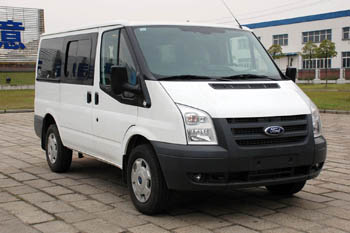midcar: (32, 1, 327, 206)
